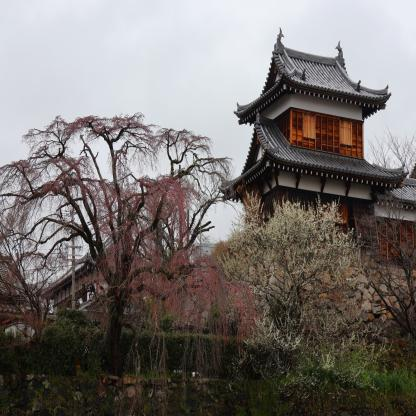Ume: (0, 110, 256, 416), (221, 190, 384, 383)
